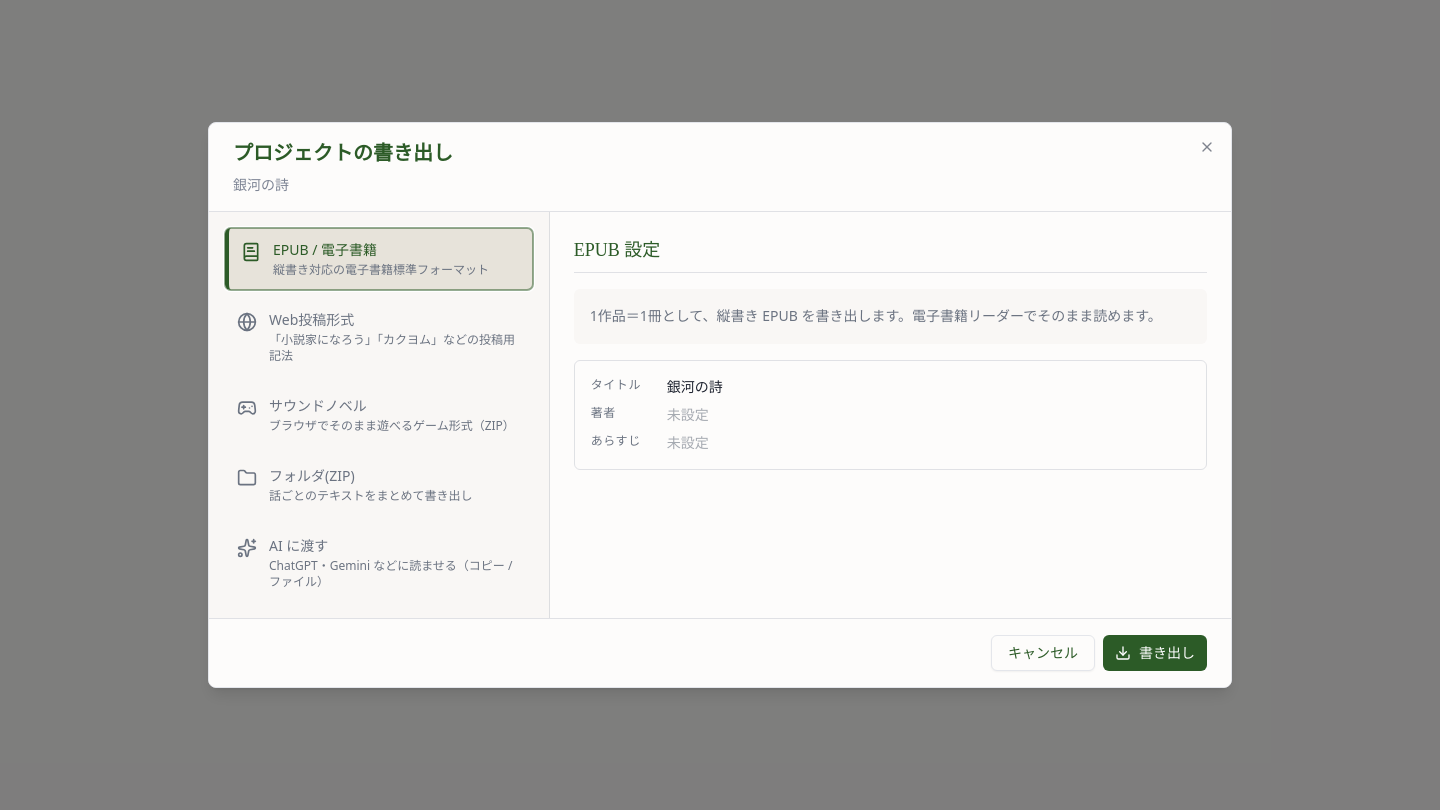
it: ExportDialog（AI に渡す） › コピー失敗時はエラー表示を出す
The width and height of the screenshot is (1440, 810).
Click the text "AI に渡す": (299, 546) [269,536,328,555]
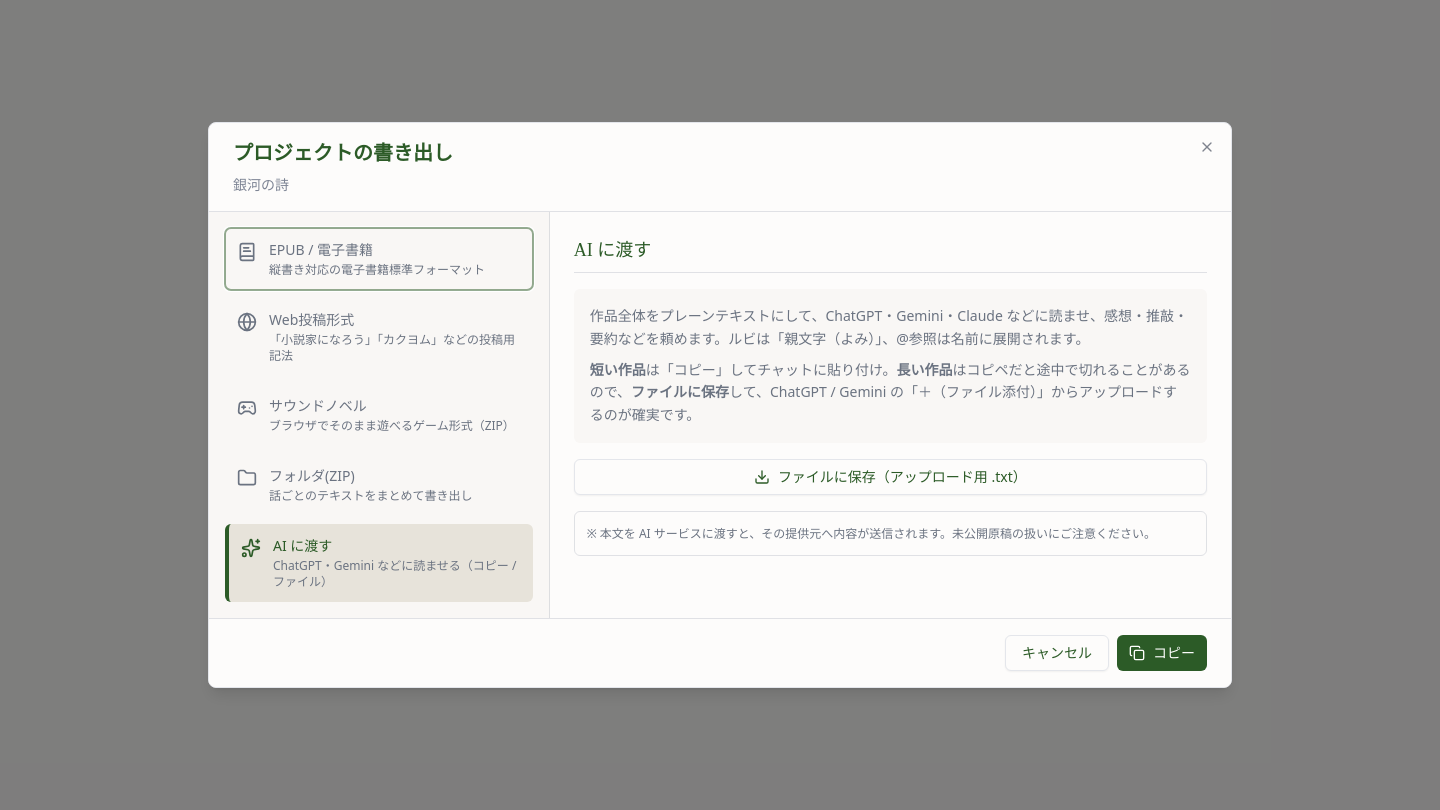
Click the button "コピー": (1162, 653) [1117,635,1207,671]
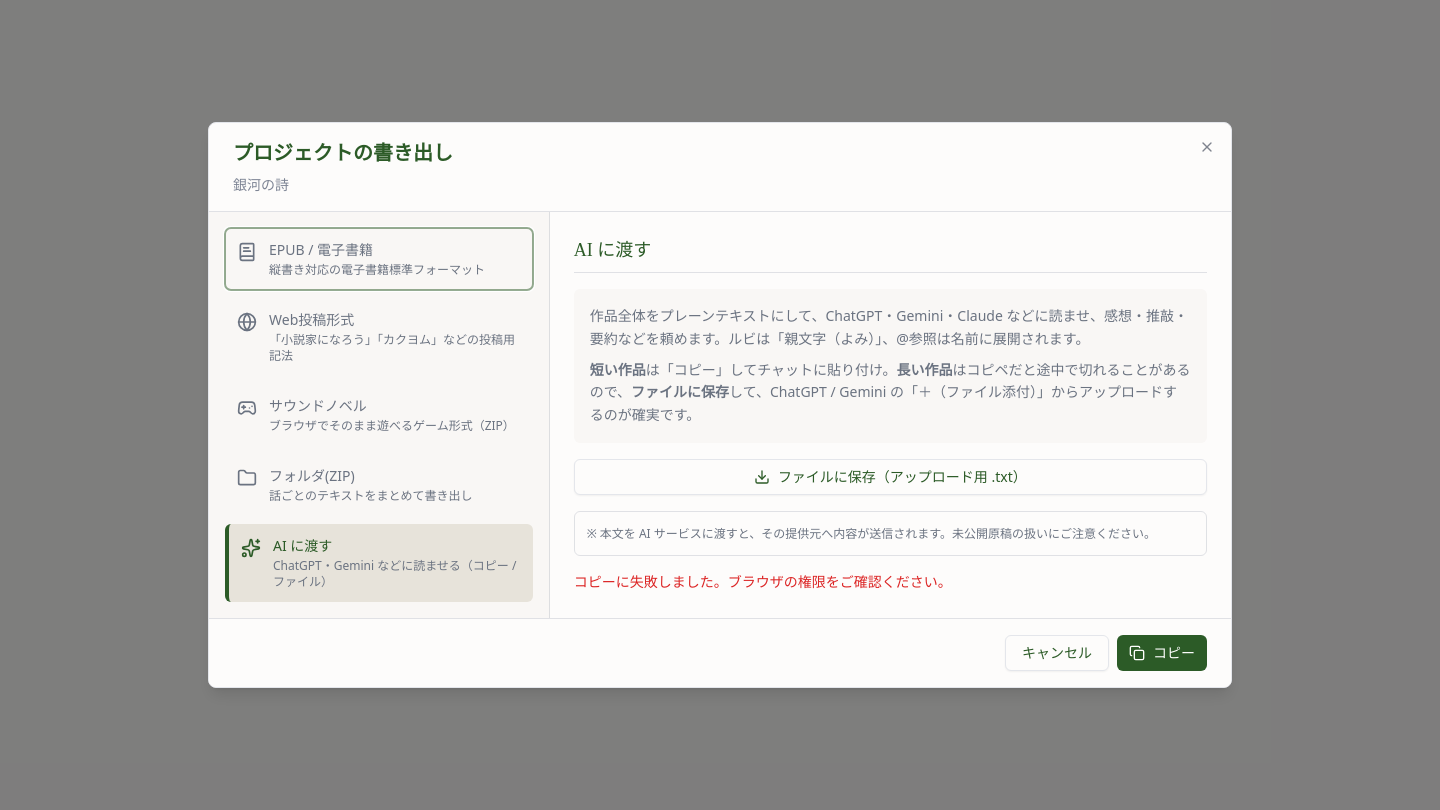
Now the text "コピーに失敗しました。ブラウザの権限をご確認ください。" is shown, box [574,572,952,591]
